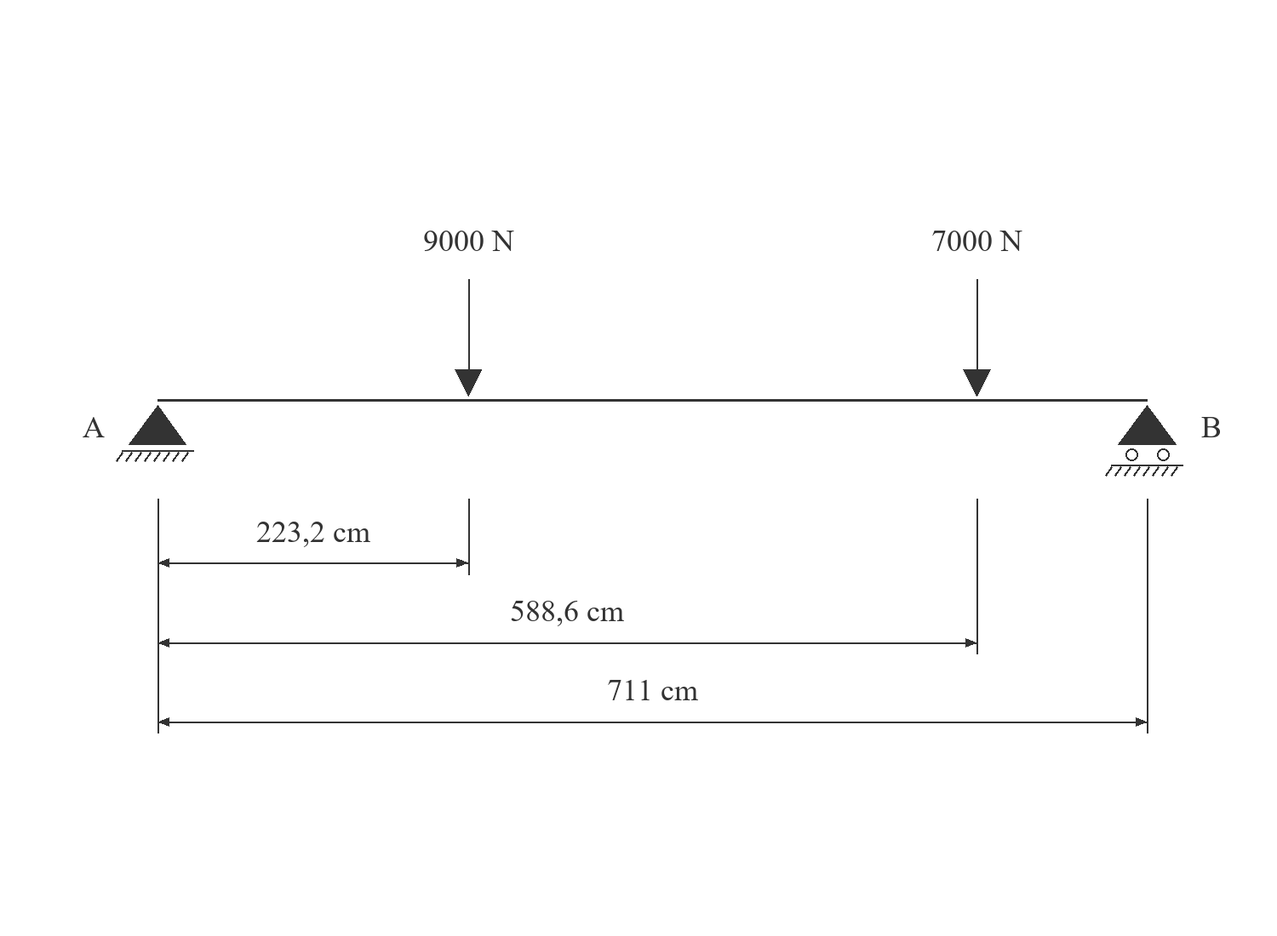pin_support: (116, 405, 194, 462)
point_load: (963, 279, 991, 397), (455, 279, 482, 397)
roller_support: (1105, 405, 1183, 477)
